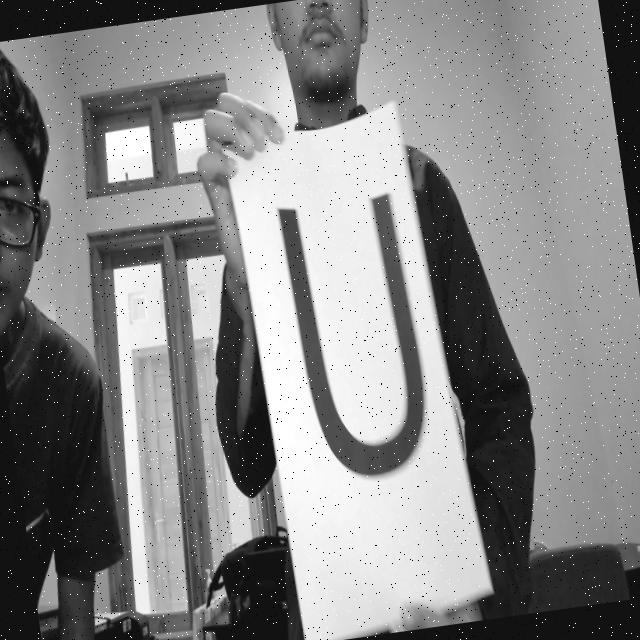u: (256, 163, 460, 498)
